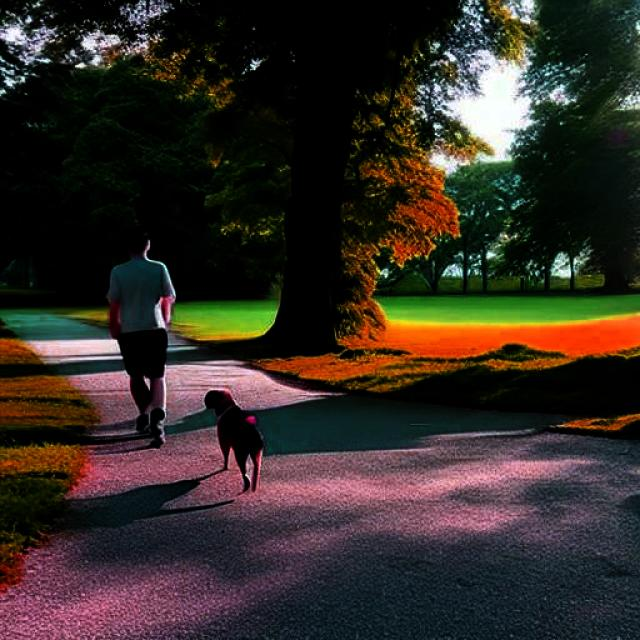Unleashed_Dog: (118, 330, 264, 494)
